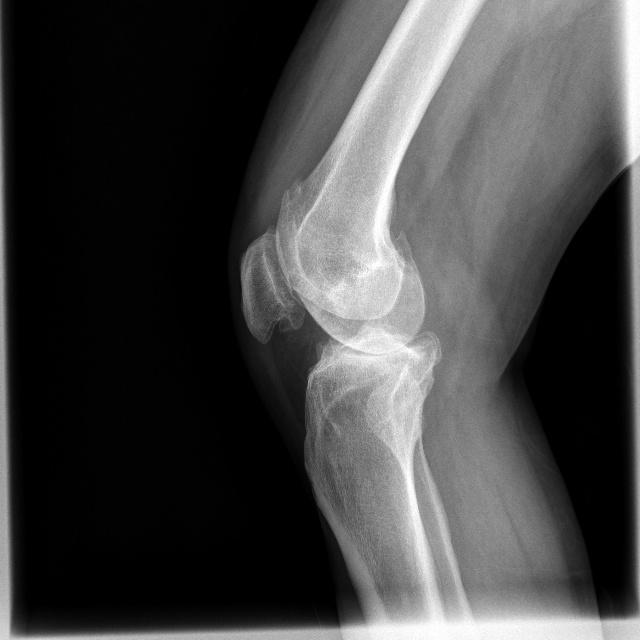Knee: (232, 215, 441, 418)
